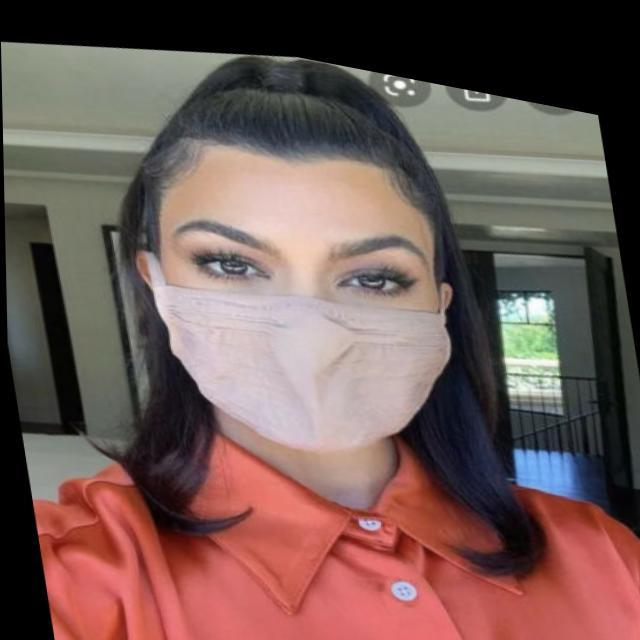Nonhelmet: (100, 54, 500, 460)
